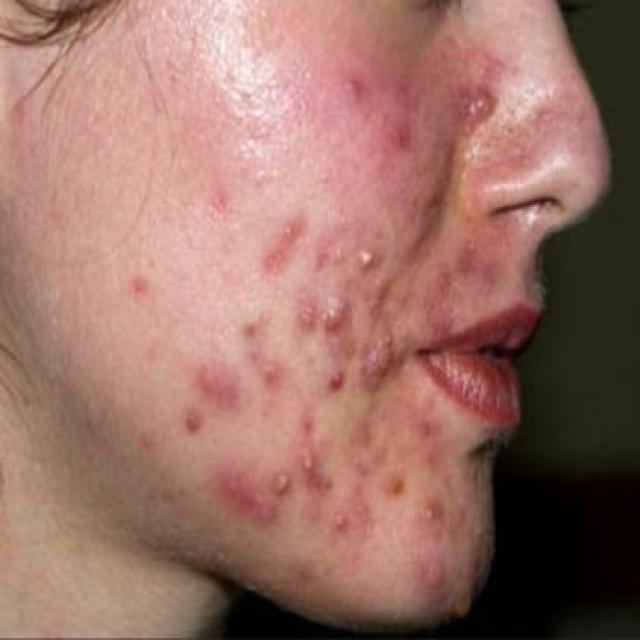8: (337, 61, 370, 130), (463, 82, 505, 130), (316, 354, 354, 402), (214, 458, 251, 506), (202, 356, 234, 410), (250, 345, 284, 391), (250, 491, 279, 536), (384, 470, 414, 508), (329, 508, 356, 540)
9: (347, 228, 390, 287), (291, 442, 326, 484), (266, 460, 300, 502)
papules: (358, 324, 401, 404), (317, 289, 354, 344)
pustules: (411, 552, 456, 602)
